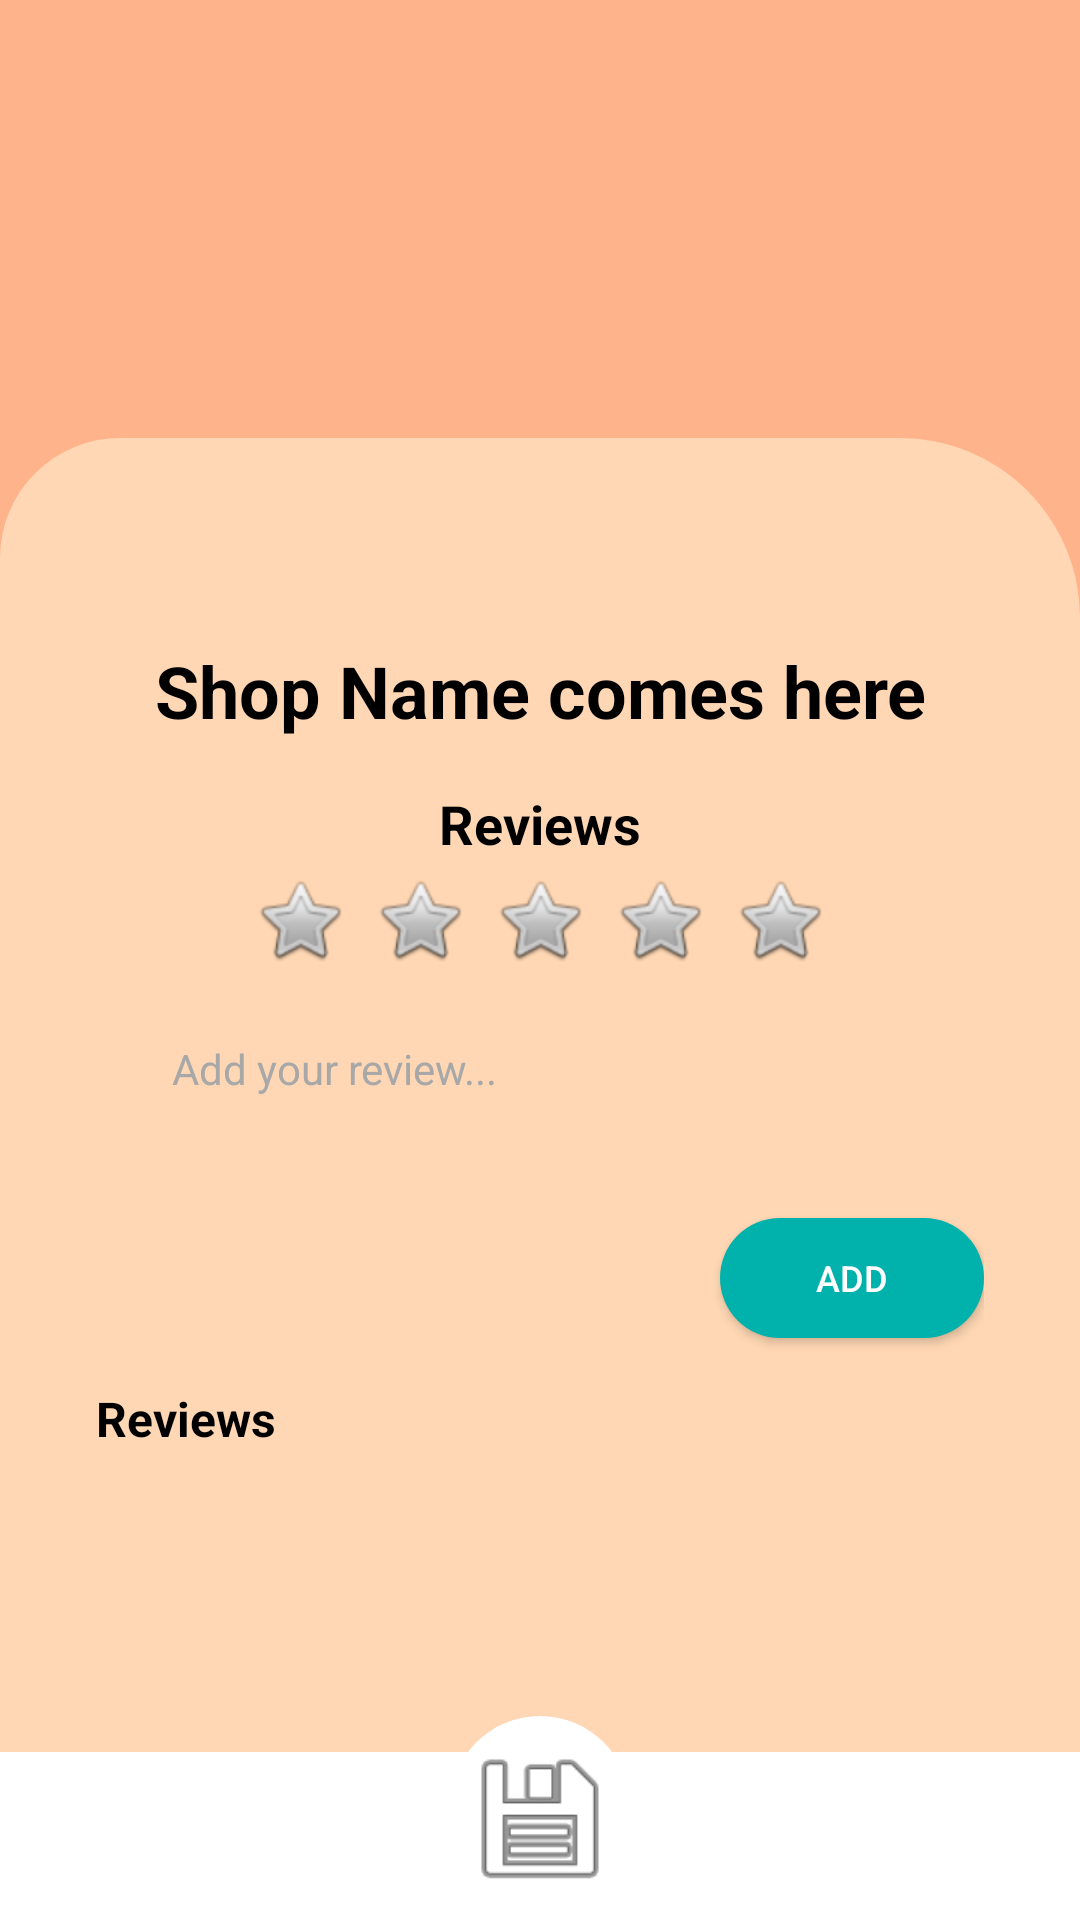

Icons on this 1080x1920 Android screen, each with the point to tap as [x,y]:
save: [540,1818]
star: [301,921], [421,921], [541,921], [661,921], [781,921]
